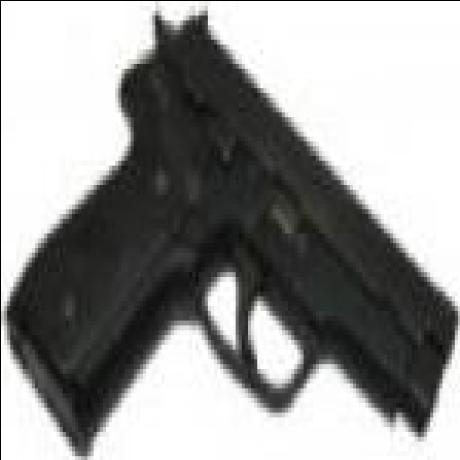weapon: (0, 17, 455, 450)
